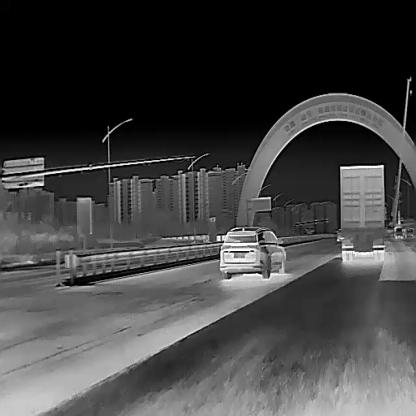car: (218, 226, 286, 279), (335, 228, 344, 242)
truck: (339, 165, 385, 264)
